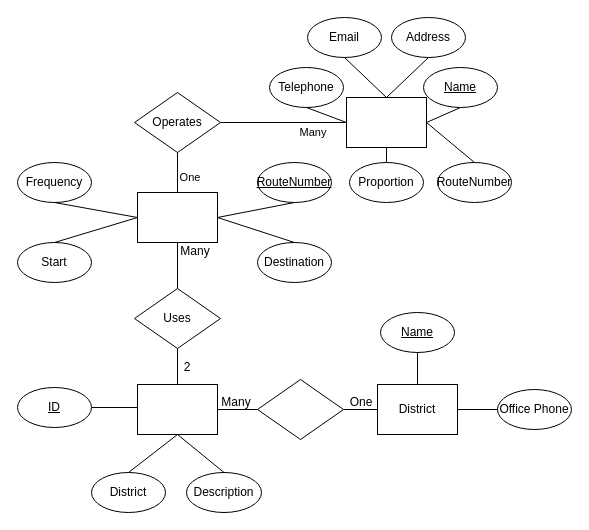
The diagram is 589 pixels wide and 530 high, and some of its shapes have lost their labels. The shapes that lost their labels are listed below. From the top down, each one's centre as x and y in pixels, then its label:
At (x=386, y=122): "Operator".
At (x=177, y=217): "Route".
At (x=177, y=409): "BusStop".
At (x=300, y=409): "Manages".
